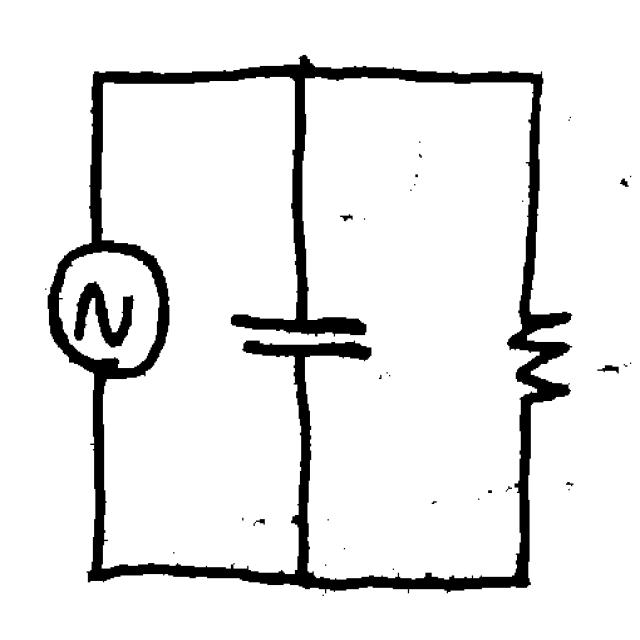ac: (40, 225, 176, 388)
capacitor: (222, 282, 385, 388)
resistor: (496, 264, 579, 434)
